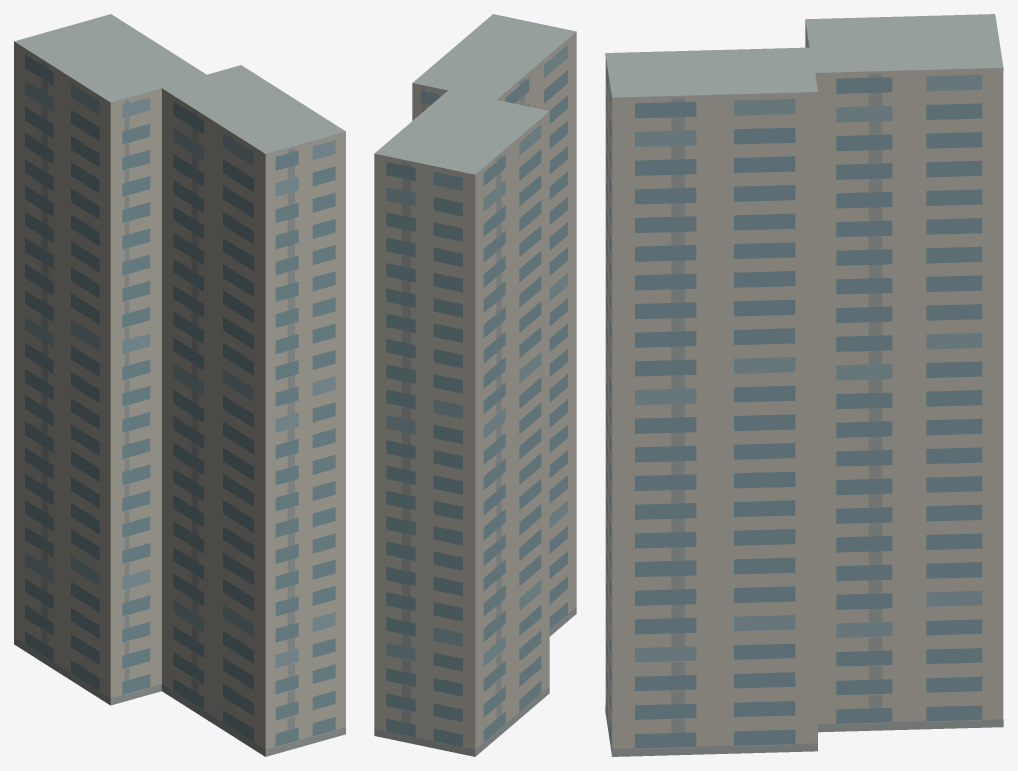
File: residential-5ae054e4-d7eb-4731-af44-dbeee127b38a.glb
3 views of the same model, side by side, from view 1: azimuth 30°, elevation 25°; view 2: azimuth 150°, elevation 25°; view 3: azimuth 270°, elevation 25° (orthographic). The views are drawn at different scales.
Parts seen in each view (by area): view 1: residential-5ae054e4-d7eb-4731-af44-dbeee127b38a.tmp; view 2: residential-5ae054e4-d7eb-4731-af44-dbeee127b38a.tmp; view 3: residential-5ae054e4-d7eb-4731-af44-dbeee127b38a.tmp.
Boxes of the visible parts, x1,y1,x2,y2 form: residential-5ae054e4-d7eb-4731-af44-dbeee127b38a.tmp: (14, 14, 345, 756); residential-5ae054e4-d7eb-4731-af44-dbeee127b38a.tmp: (374, 14, 576, 756); residential-5ae054e4-d7eb-4731-af44-dbeee127b38a.tmp: (605, 14, 1003, 756).
Bounding box in the file's own units: 17.4 × 64 × 35.02.
